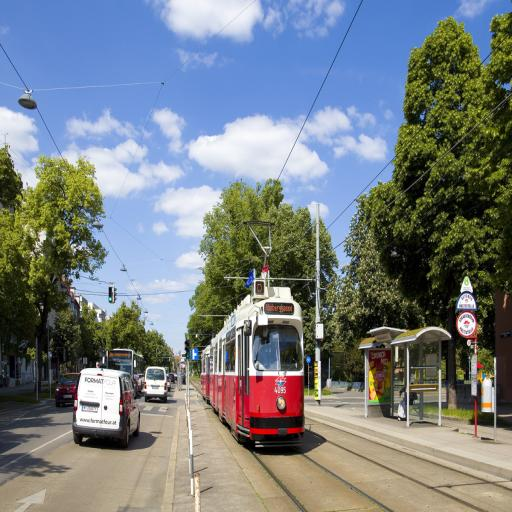E2-Tram: (201, 279, 307, 438)
